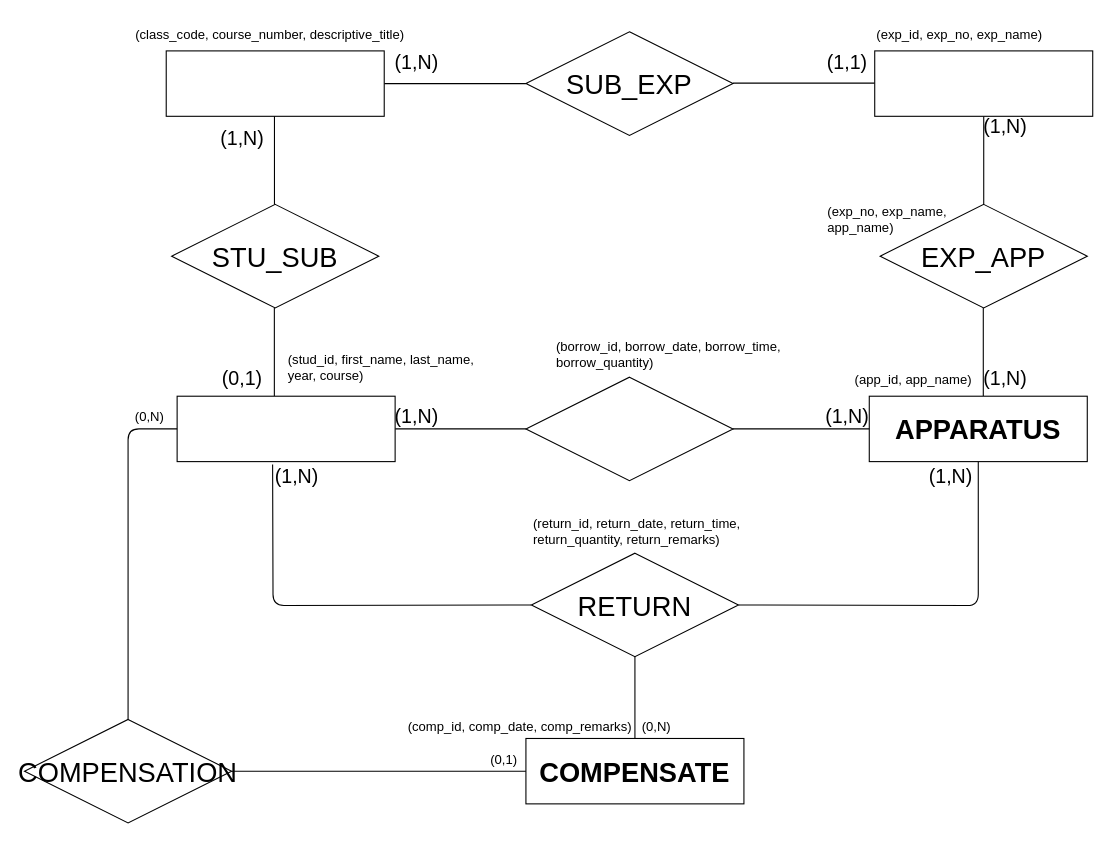
Image size: 1112x841. Some labels were removed from this diagram. Each missing label, with the centre of its shape:
"BORROW" goes at (x=629, y=428).
"EXPERIMENT" goes at (x=983, y=83).
"STUDENT" goes at (x=285, y=428).
"SUBJECT" goes at (x=274, y=83).
